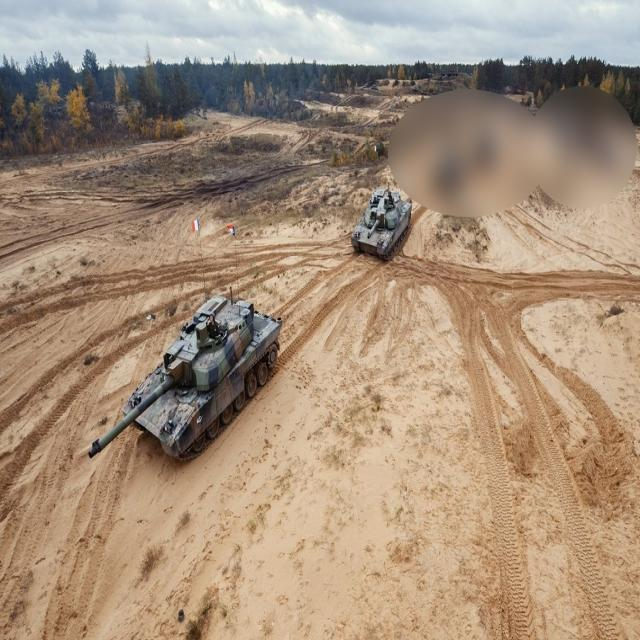tank: (89, 295, 285, 461), (351, 188, 413, 260)
